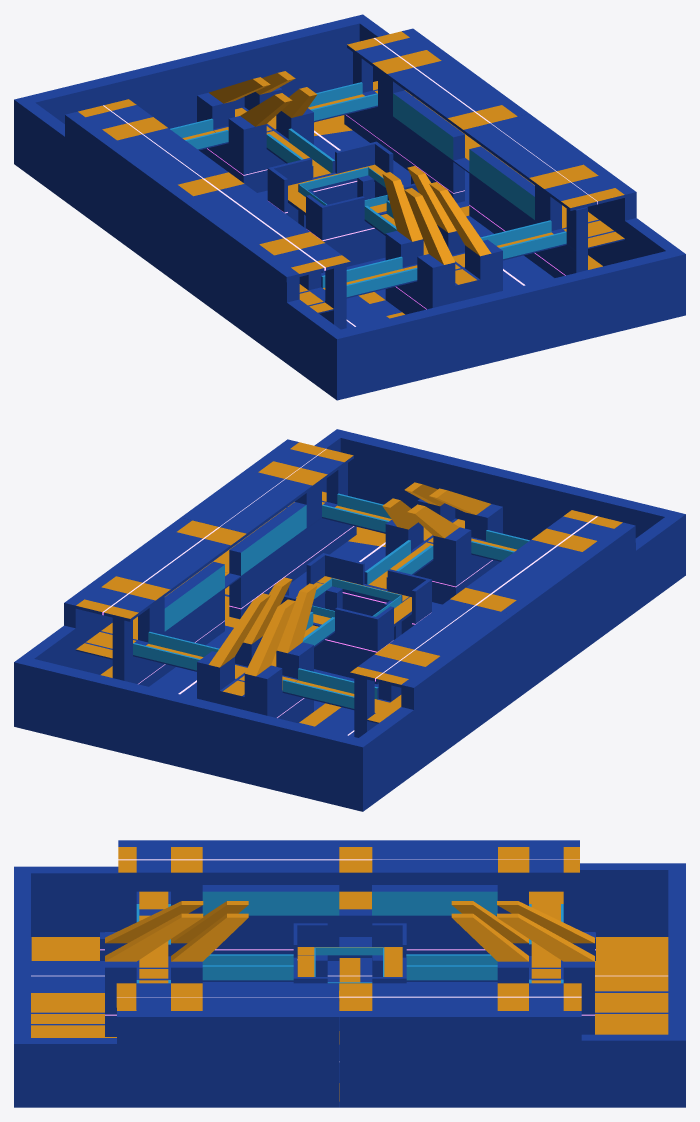
The model's file is fps_warface_map_neon_pvp_pve.glb.
The picture shows the model from 3 angles, top to bottom: view 1: azimuth 30°, elevation 25°; view 2: azimuth 150°, elevation 25°; view 3: azimuth 270°, elevation 25°; orthographic projection. The views are drawn at different scales.
Visible parts, largest first — view 1: Plane_0; view 2: Plane_0; view 3: Plane_0.
Boxes of the visible parts, left/top/right/bottom form: Plane_0: left=14, top=14, right=685, bottom=400; Plane_0: left=14, top=429, right=685, bottom=811; Plane_0: left=14, top=840, right=685, bottom=1107.
Size of the model in its own units: 15.88 by 4.59 by 25.46.
